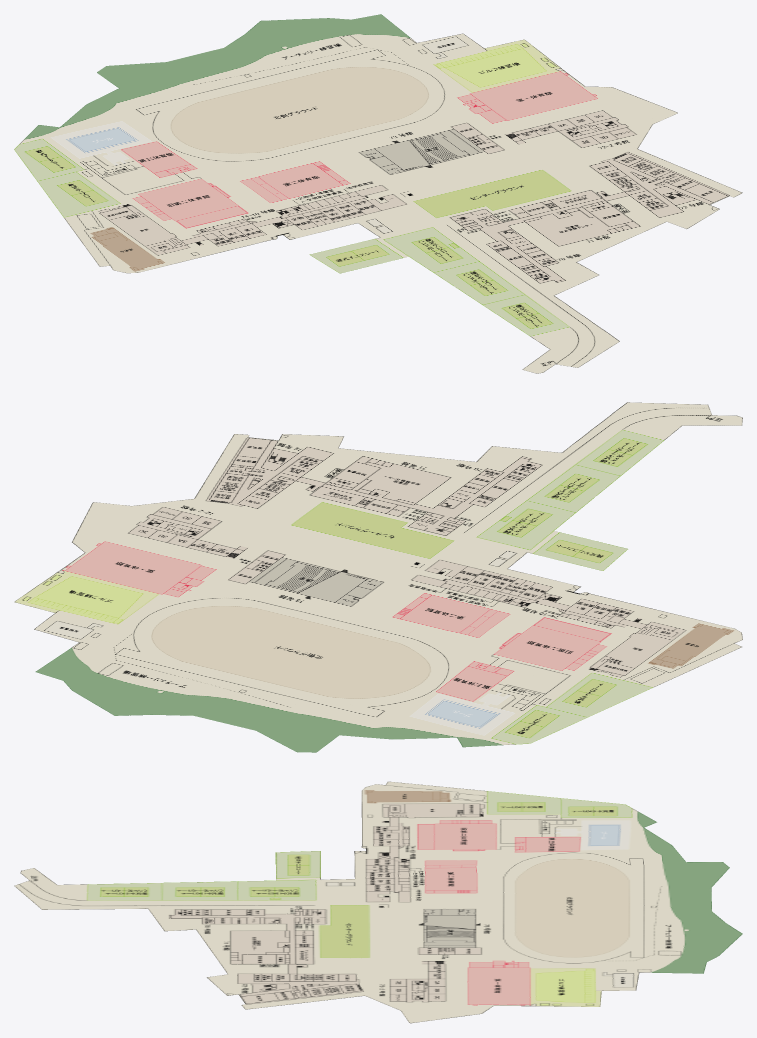
The model's file is story0.obj.
3 views of the same model, one above another, from view 1: azimuth 30°, elevation 25°; view 2: azimuth 150°, elevation 25°; view 3: azimuth 270°, elevation 25° (orthographic). The views are drawn at different scales.
Visible parts, largest first — view 1: 平面.001; view 2: 平面.001; view 3: 平面.001.
Boxes of the visible parts, x1,y1,x2,y2 form: 平面.001: [14, 14, 742, 373]; 平面.001: [14, 402, 742, 752]; 平面.001: [14, 781, 742, 1023].
Size of the model in its own units: 1.52 by 0 by 1.93.
1 material, 1 textured.
